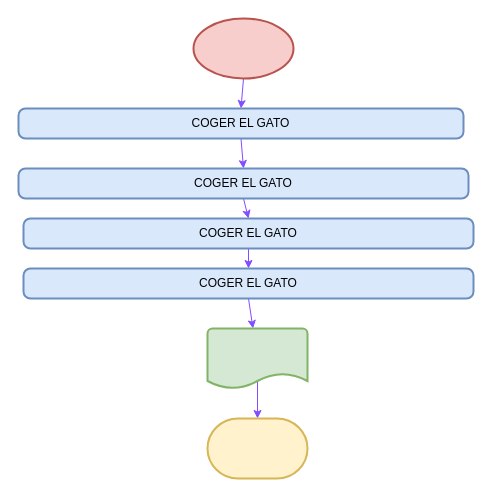
This 491x496 diagram has some shape labels left out. Here are the shapes that lost their labels. From the top down, the box of each, then its label:
(192, 17, 294, 79): INICIO
(206, 417, 308, 479): FINAL
